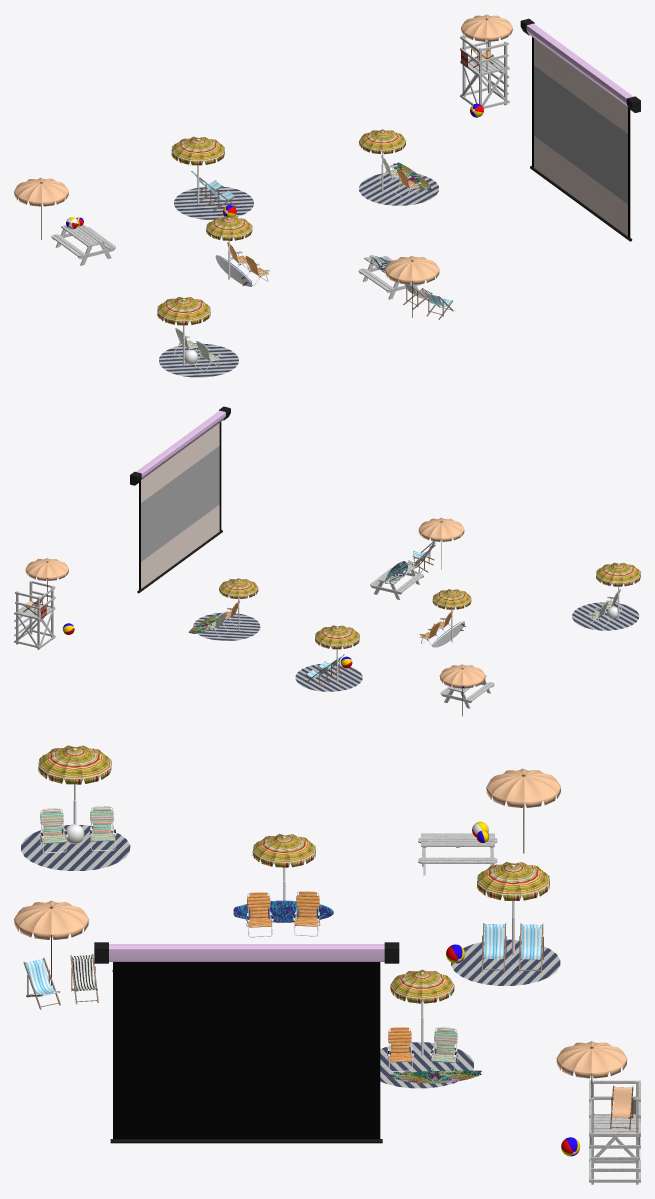
3 views of the same model, one above another, from view 1: azimuth 30°, elevation 25°; view 2: azimuth 150°, elevation 25°; view 3: azimuth 270°, elevation 25° (orthographic). The views are drawn at different scales.
Visible parts, largest first — view 1: Rectangle004, Umbrella_LOD0 (×7), LifeguardTower (1), SM_zhuobu (2), SM_zhuobu, SM_zhuobu (1), Rectangle001, PicnicTable (1), PicnicTable; view 2: Rectangle004, Umbrella_LOD0 (×7), LifeguardTower (1), SM_zhuobu (2), SM_zhuobu, SM_zhuobu (1), Rectangle001, PicnicTable, PicnicTable (1); view 3: Rectangle004, Umbrella_LOD0 (×7), BeachChair_LOD0 (×11), Rectangle001, LifeguardTower (1), SM_zhuobu, SM_zhuobu (2), SM_zhuobu (1), PicnicTable (1), Cylinder002, Surfboard1, Surfboard2.
Boxes of the visible parts, <box> form: Rectangle004: <box>532,37,630,237</box>; Umbrella_LOD0 (×7): <box>14,14,512,364</box>; LifeguardTower (1): <box>460,35,509,108</box>; SM_zhuobu (2): <box>174,186,253,219</box>; SM_zhuobu: <box>159,343,238,377</box>; SM_zhuobu (1): <box>359,172,438,205</box>; Rectangle001: <box>526,23,633,106</box>; PicnicTable (1): <box>51,224,115,265</box>; PicnicTable: <box>358,255,421,299</box>; Rectangle004: <box>139,422,221,590</box>; Umbrella_LOD0 (×7): <box>25,517,640,716</box>; LifeguardTower (1): <box>14,580,55,649</box>; SM_zhuobu (2): <box>295,663,362,691</box>; SM_zhuobu: <box>572,602,639,630</box>; SM_zhuobu (1): <box>193,612,260,640</box>; Rectangle001: <box>136,410,225,480</box>; PicnicTable: <box>370,565,423,599</box>; PicnicTable (1): <box>440,675,494,708</box>; Rectangle004: <box>113,962,380,1139</box>; Umbrella_LOD0 (×7): <box>14,745,627,1097</box>; BeachChair_LOD0 (×11): <box>23,806,633,1130</box>; Rectangle001: <box>109,944,384,961</box>; LifeguardTower (1): <box>589,1080,640,1184</box>; SM_zhuobu: <box>21,825,130,870</box>; SM_zhuobu (2): <box>451,939,560,985</box>; SM_zhuobu (1): <box>380,1042,473,1088</box>; PicnicTable (1): <box>418,833,497,875</box>; Cylinder002: <box>110,1139,382,1143</box>; Surfboard1: <box>233,900,333,922</box>; Surfboard2: <box>386,1070,481,1083</box>.
Size of what is drawn, in the model's own units: 57.88 by 15.59 by 42.77.
31 materials, 16 textured.
